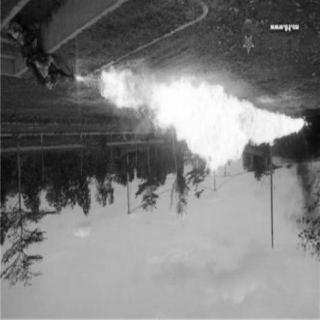Fire: (83, 63, 213, 171), (197, 101, 310, 186), (65, 60, 93, 96)
